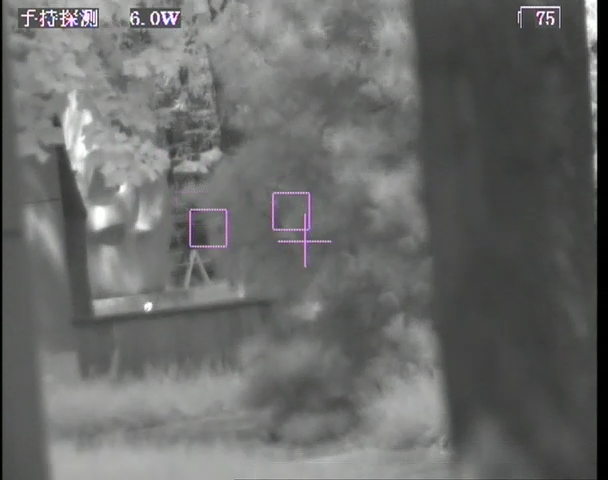my: (142, 299, 155, 312)
